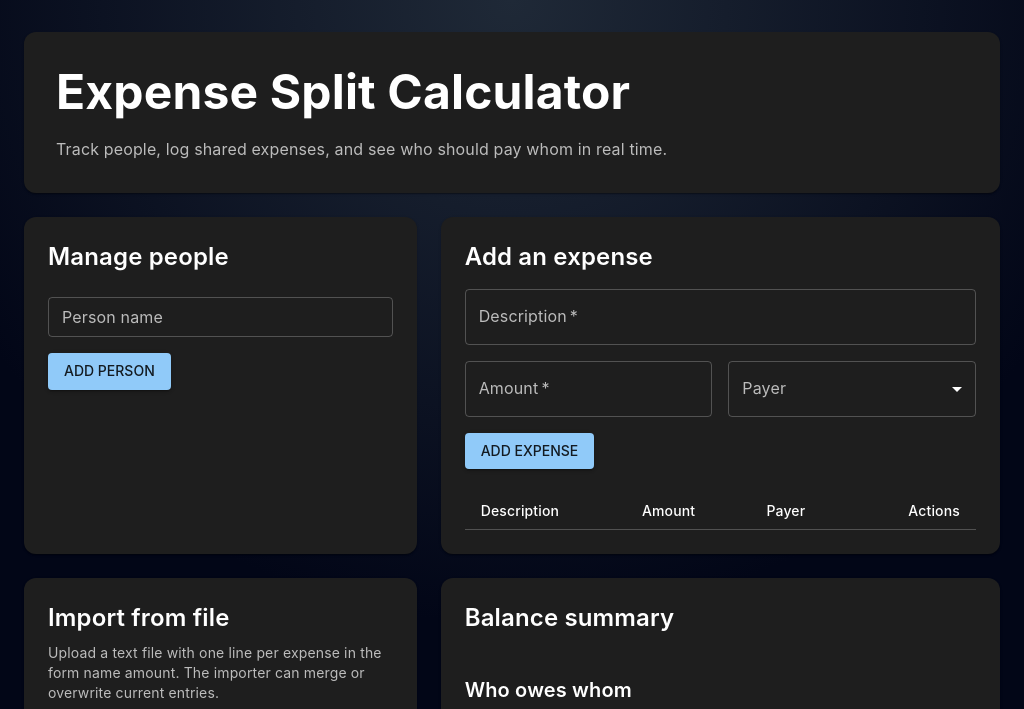
Scenario: App › deletes a person and removes their expenses
Type "Diana" into the field labelled "Person name" at (220, 317), box left=48, top=297, right=393, bottom=337
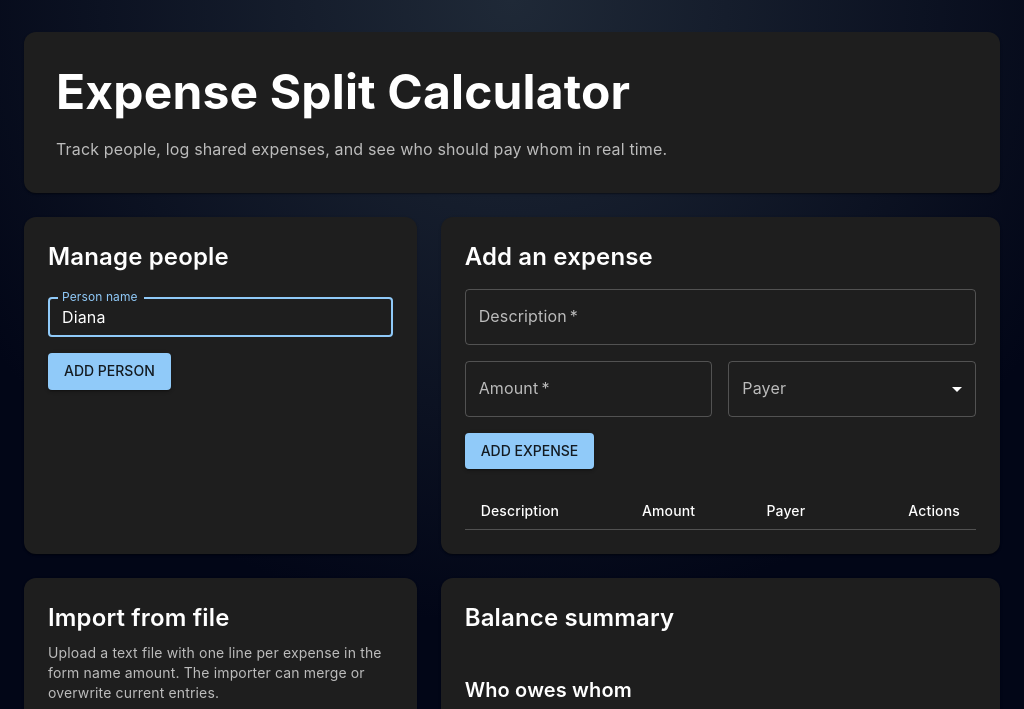
Click the button "Add person" at (109, 371), box left=48, top=353, right=171, bottom=390
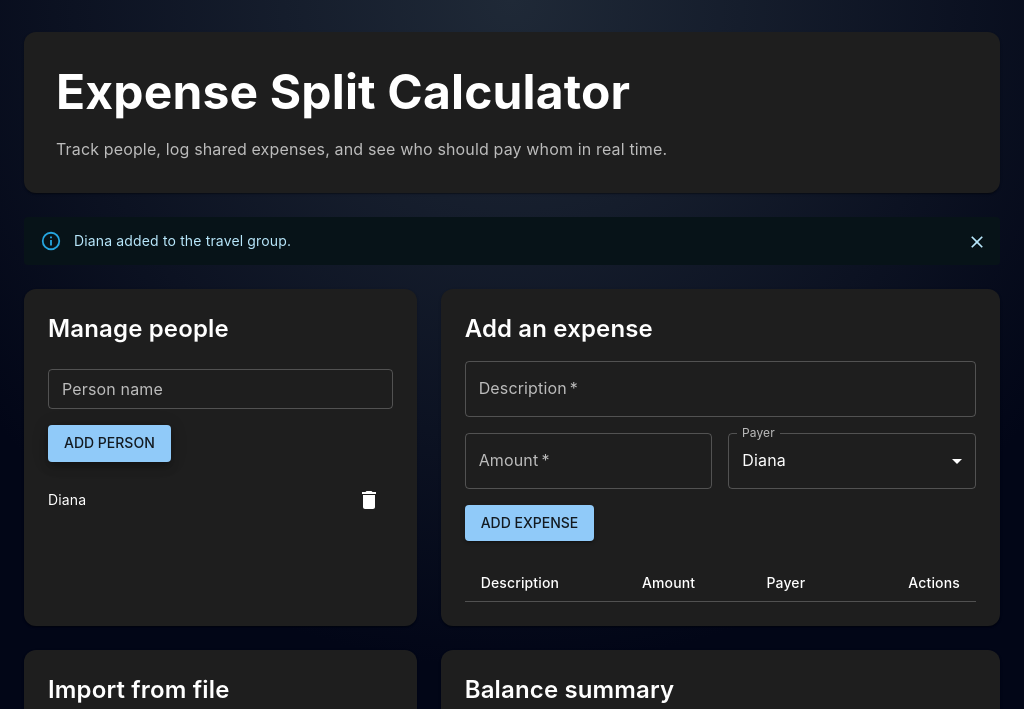
Type "Dinner" into the field labelled "Description *" at (720, 389), box left=465, top=361, right=976, bottom=417
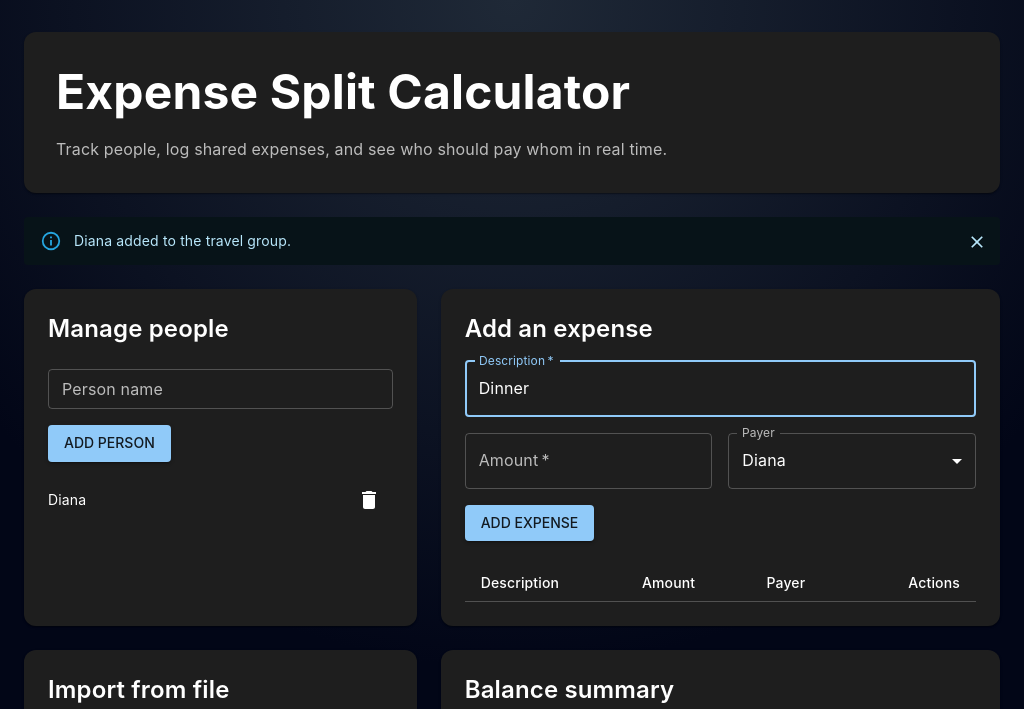
Type "60" into the number field labelled "Amount *" at (589, 461), box left=465, top=433, right=712, bottom=489
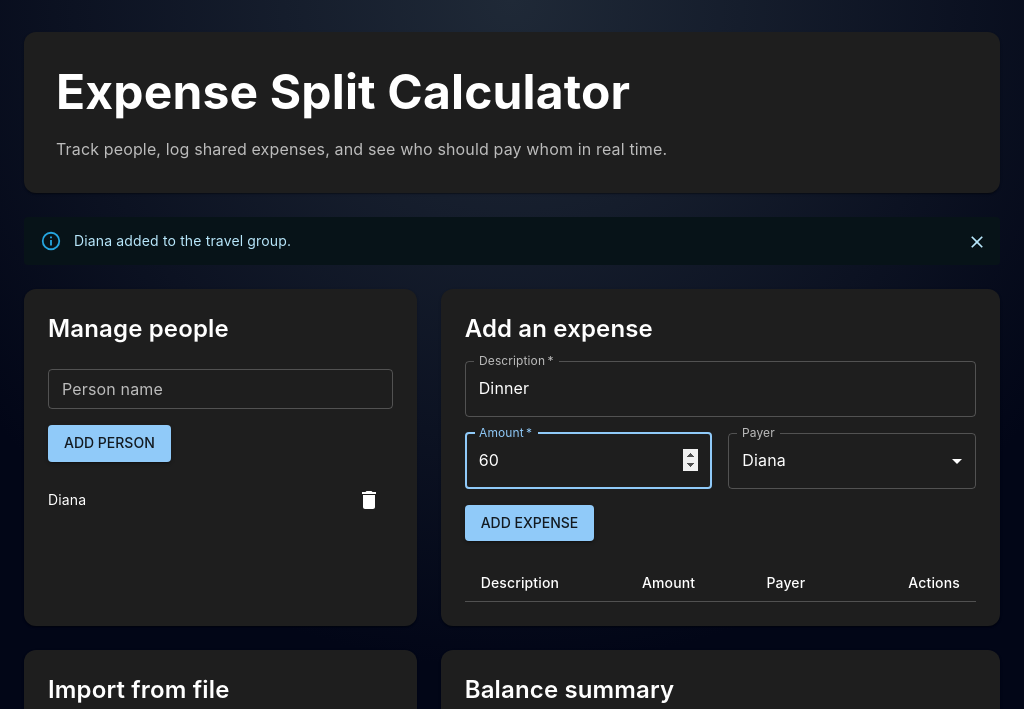
Click the button "Add expense" at (530, 523), box left=465, top=505, right=594, bottom=541
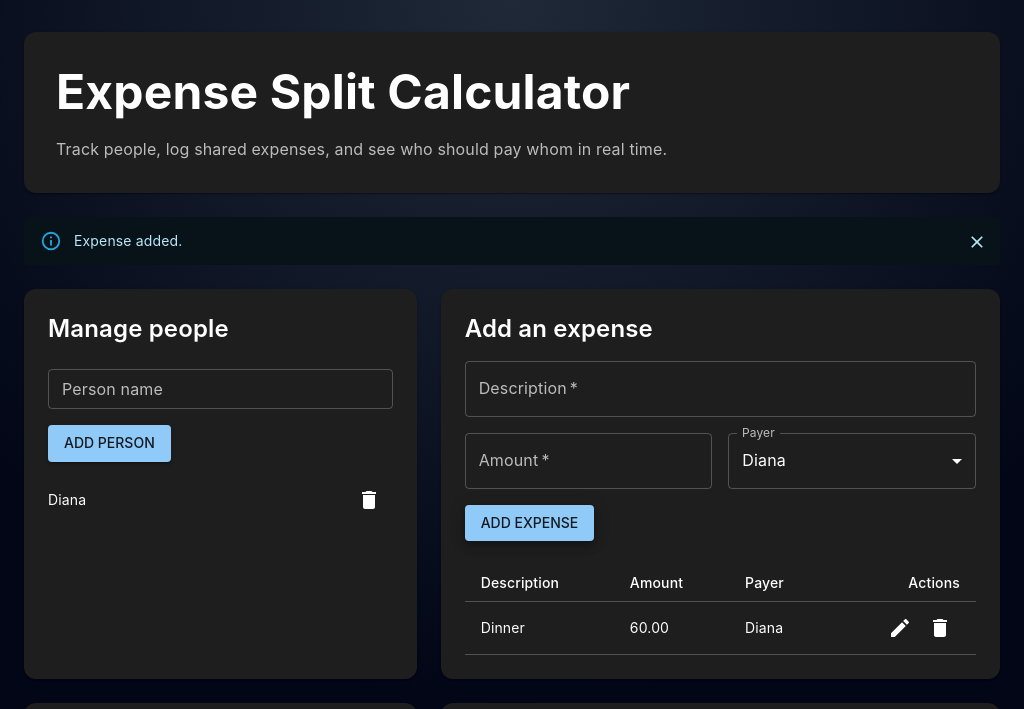
Click the button named "delete diana" at (369, 500), box left=349, top=480, right=389, bottom=520
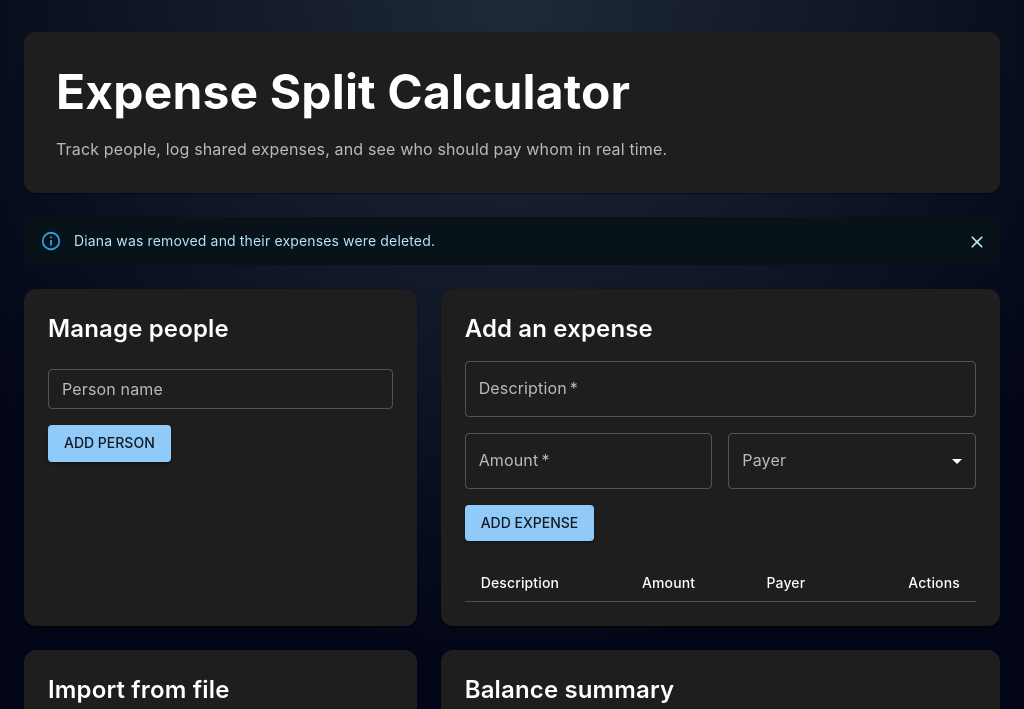
Expected: the text "Dinner" is gone
